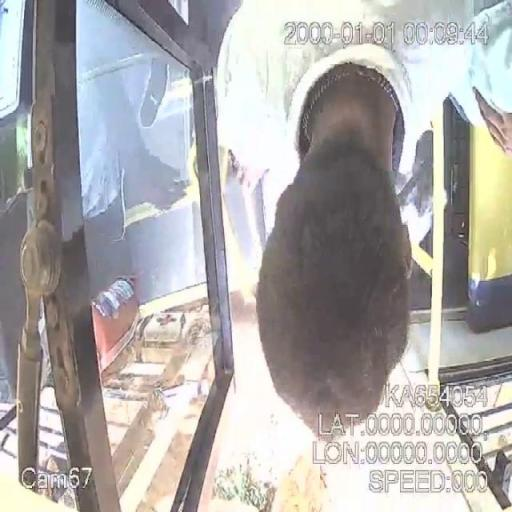persona: (212, 0, 474, 438)
